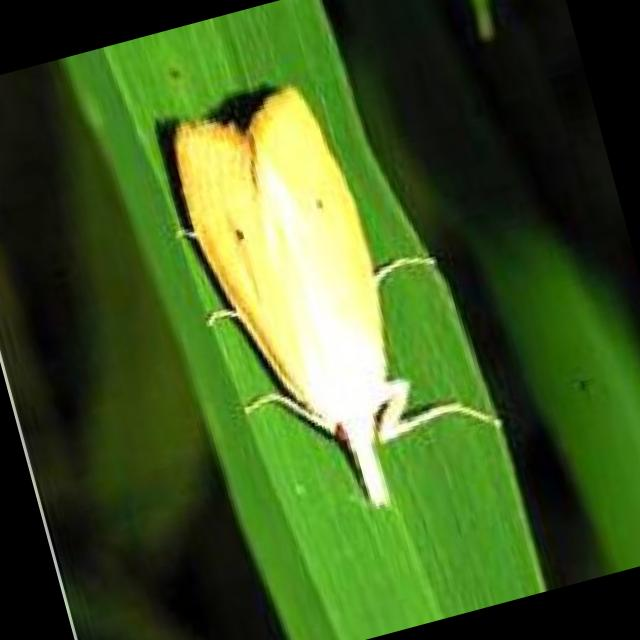stem-borer: (142, 51, 518, 544)
